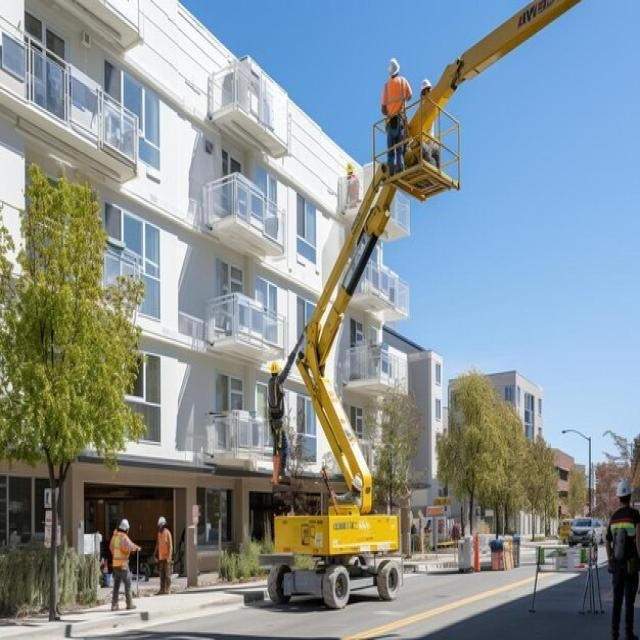Arnes_seguridad: (385, 75, 407, 130)
